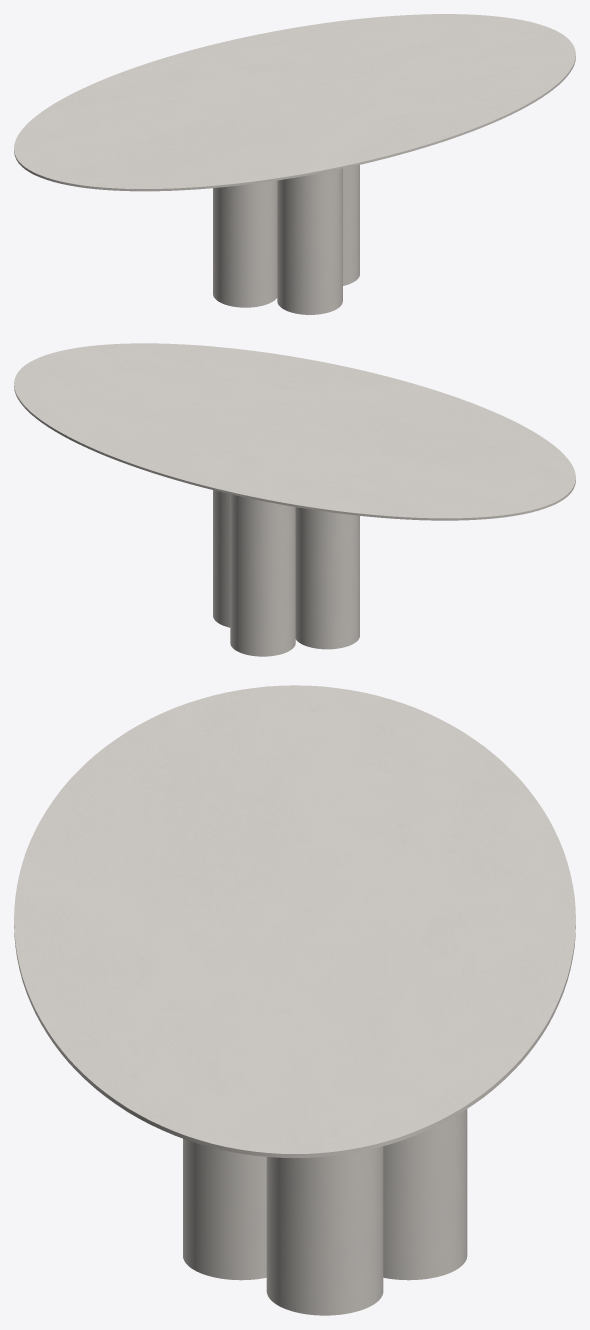
Rendered from pearlwhite_ellips_facet_secondtable.glb.
3 views of the same model, one above another, from view 1: azimuth 30°, elevation 25°; view 2: azimuth 150°, elevation 25°; view 3: azimuth 270°, elevation 25° (orthographic). The views are drawn at different scales.
Visible parts, largest first — view 1: facet_ellips, secondtable; view 2: facet_ellips, secondtable; view 3: facet_ellips, secondtable.
Part boxes in pixels (x1,y1,x2,y2): facet_ellips: [14, 14, 575, 191]; secondtable: [213, 165, 359, 314]; facet_ellips: [14, 343, 575, 520]; secondtable: [213, 490, 359, 656]; facet_ellips: [14, 685, 575, 1158]; secondtable: [183, 1109, 467, 1315].
Bounding box in the file's own units: 7.5 × 2.5 × 3.8.
Materials: 1 (1 with a texture image).
